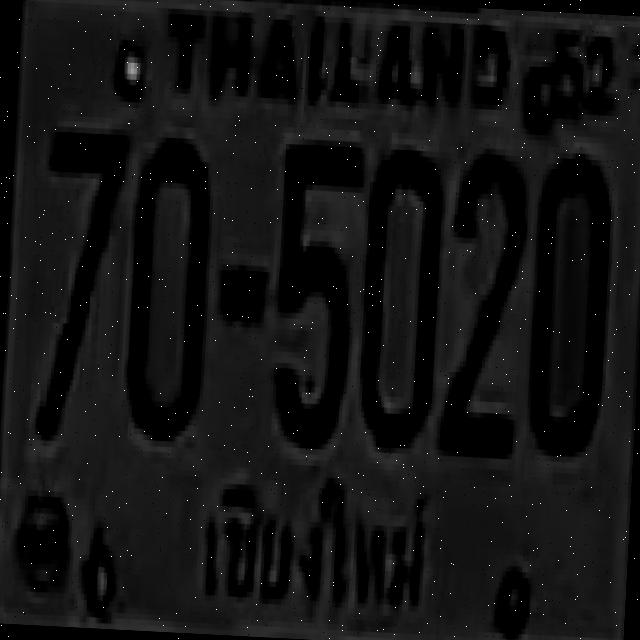0: (121, 130, 213, 438), (522, 146, 611, 452), (354, 142, 442, 444)
2: (436, 147, 528, 454)
5: (267, 132, 360, 445)
7: (32, 120, 128, 438), (36, 123, 126, 385)
ChiangMai: (188, 460, 448, 640)
